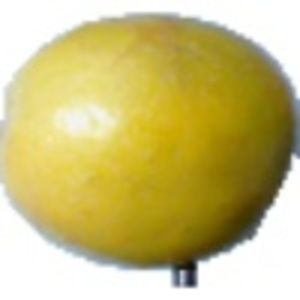maracujá: (1, 13, 300, 289)
